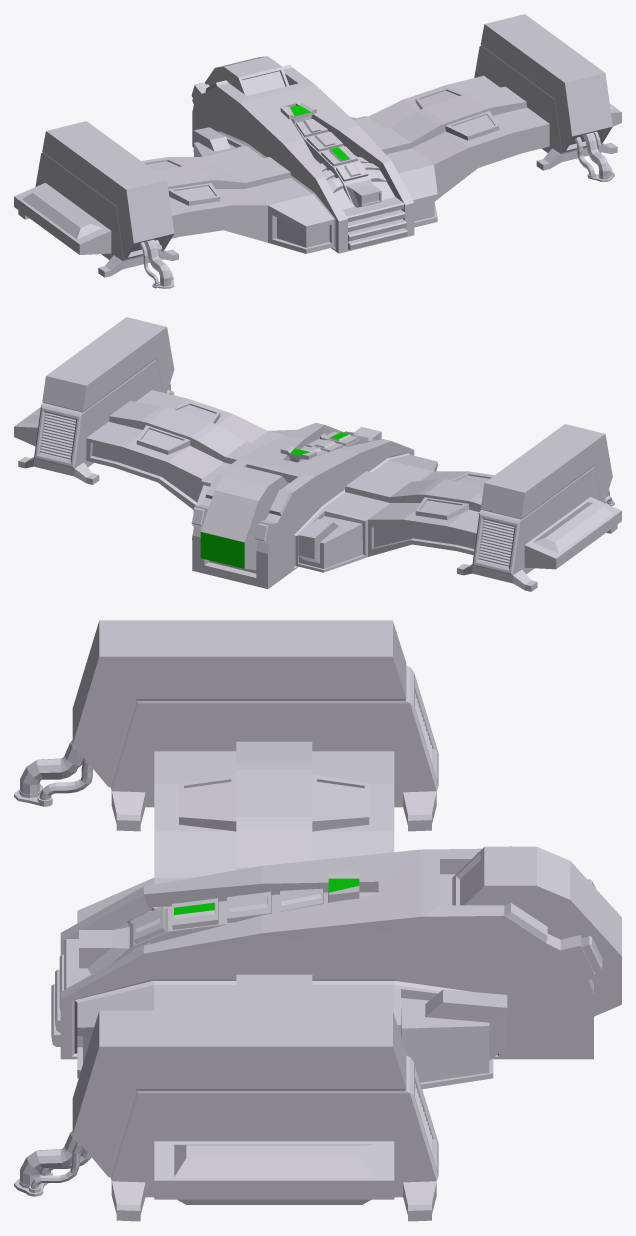
The model's file is top Wing .fbx.
3 renders of one model, top to bottom at view 1: azimuth 30°, elevation 25°; view 2: azimuth 150°, elevation 25°; view 3: azimuth 270°, elevation 25°, orthographic. The views are drawn at different scales.
Parts seen in each view (by area): view 1: top Wing; view 2: top Wing; view 3: top Wing.
Part boxes in pixels (x1=…): top Wing: x1=14, y1=14, x2=621, y2=288; top Wing: x1=14, y1=317, x2=621, y2=591; top Wing: x1=14, y1=620, x2=621, y2=1221.
Size of the model in its own units: 8.41 by 1.56 by 4.48.
